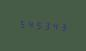five: (17, 18, 24, 29), (34, 19, 41, 30)
four: (25, 18, 32, 30), (50, 20, 57, 31)
three: (42, 19, 49, 31), (58, 21, 65, 32)
